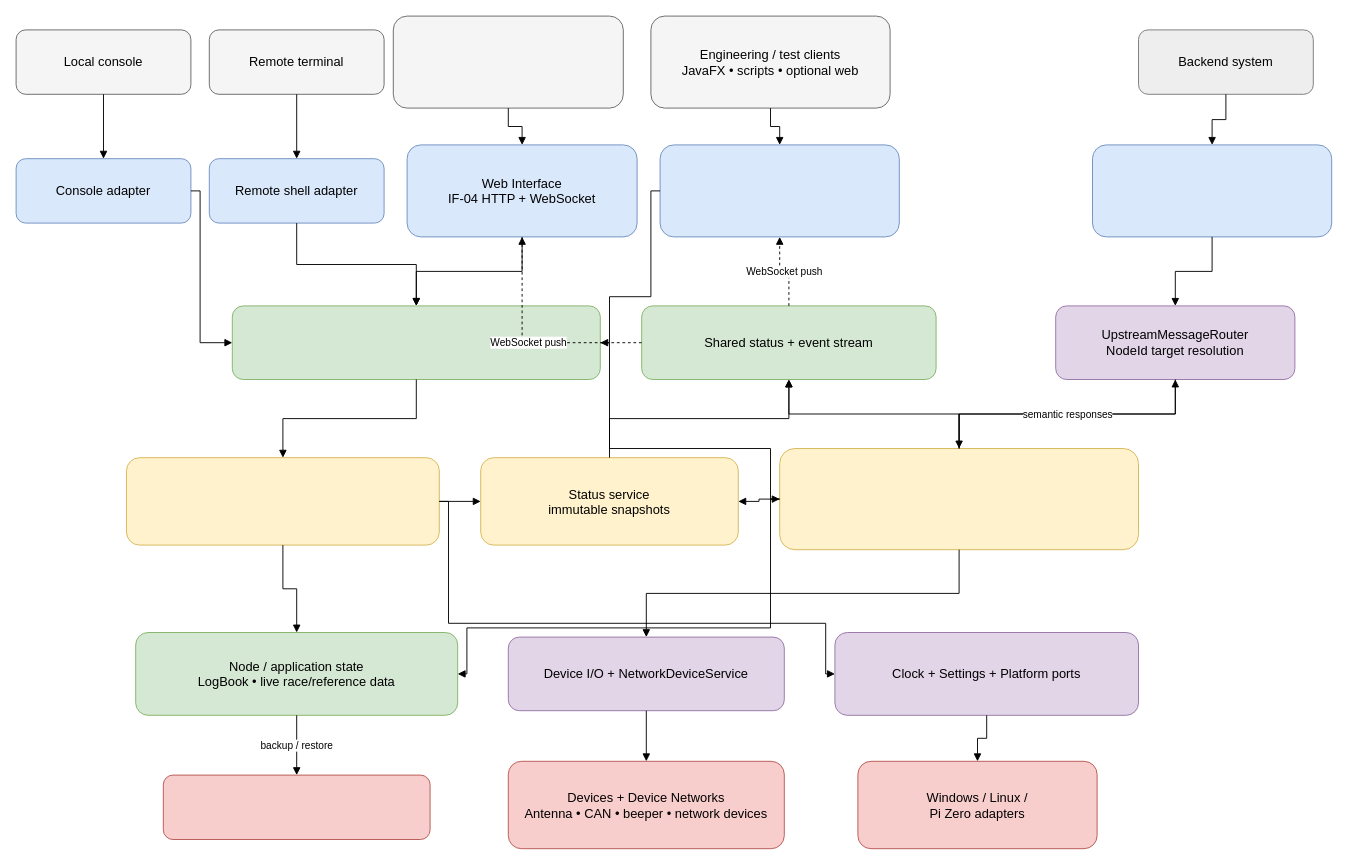
The diagram is 1348 pixels wide and 865 high, and some of its shapes have lost their labels. The shapes that lost their labels are listed below. From the top down, each one's centre as x and y in pixels, then its label:
At (507,61): "Browser / tablet operator IF-04 Web".
At (779,190): "API IF-03 HTTP + WebSocket".
At (1212,190): "Connector RabbitMQ / other transport".
At (415,342): "Shared command / query boundary".
At (282,501): "Timing Point Application (SI-01) 1..N TimingSystems • 1..N TimingNodes".
At (958,499): "TimingNode Upstream port • Processing • Data • Timing".
At (296,807): "Simple file backup / restore".
